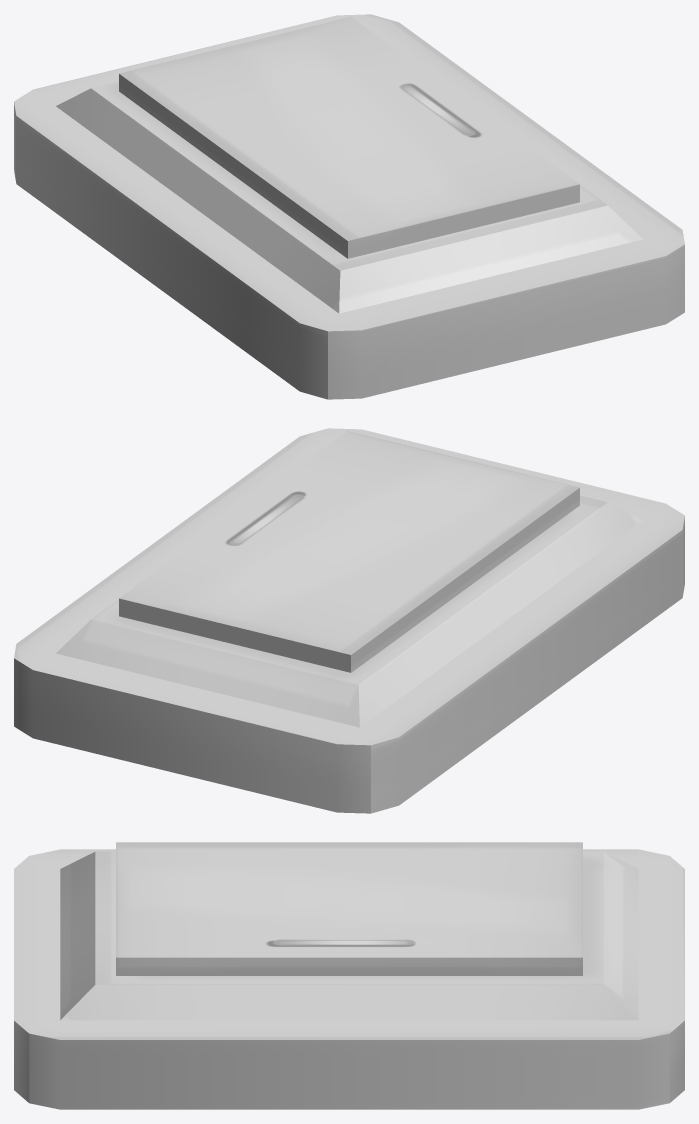
Rendered from Switch0.FBX.
3 views of the same model, one above another, from view 1: azimuth 30°, elevation 25°; view 2: azimuth 150°, elevation 25°; view 3: azimuth 270°, elevation 25° (orthographic). The views are drawn at different scales.
Visible parts, largest first — view 1: Box015; view 2: Box015; view 3: Box015.
Boxes of the visible parts, box(x1,y1,x2,y2) form: Box015: box(14, 14, 684, 399); Box015: box(14, 428, 684, 813); Box015: box(14, 842, 684, 1109).
Bounding box in the file's own units: 4.6 × 1.29 × 6.85.
1 material, 1 textured.
